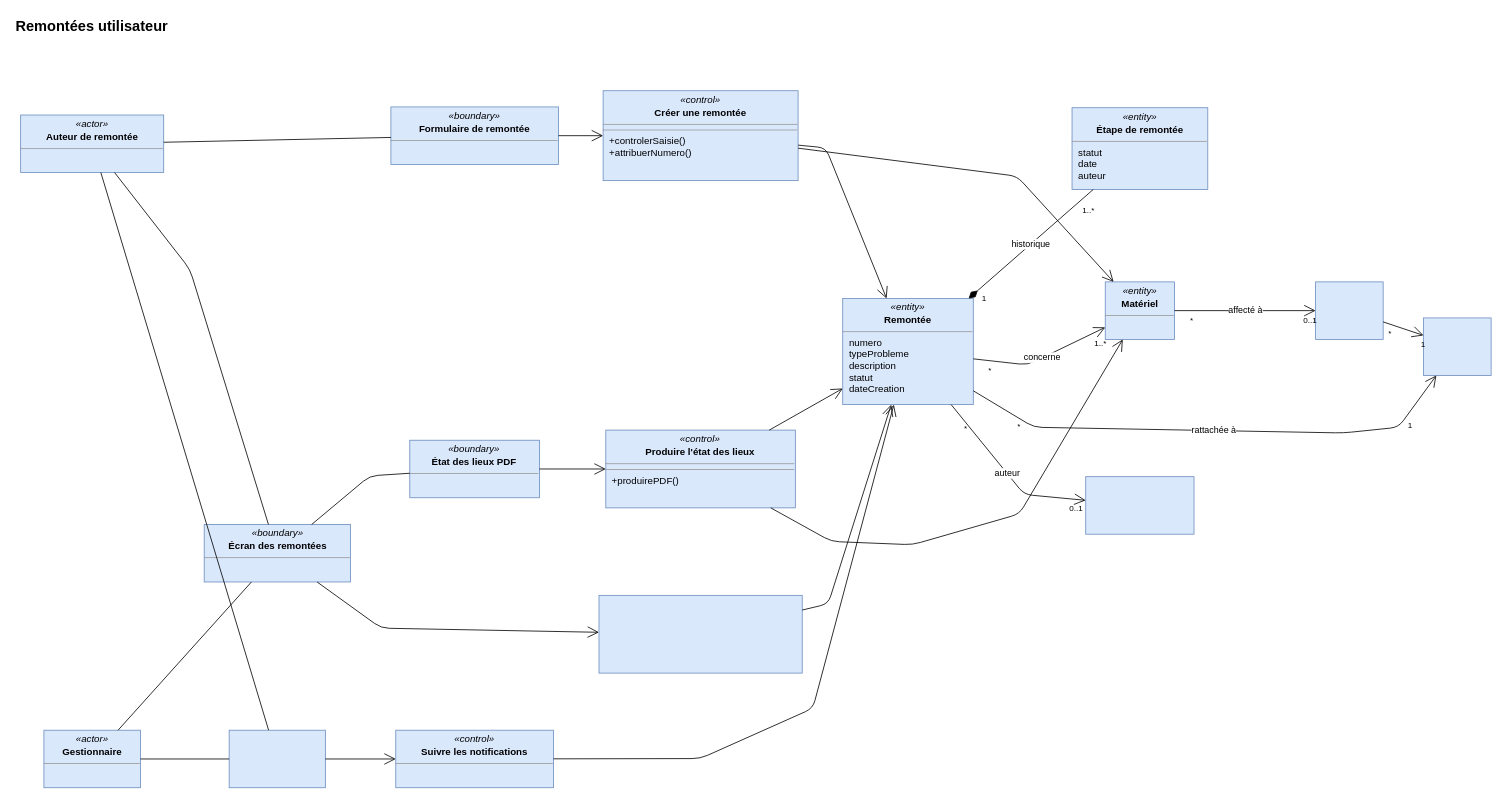
This 1505x802 diagram has some shape labels left out. Here are the shapes that lost their labels. From the top down, the centre of each, then its label:
the point at 1349,310: «entity» Salle
the point at 1457,346: «entity» École
the point at 1139,505: «entity» Compte ORION
the point at 700,634: «control» Prendre en charge et traiter +changerStatut()
the point at 276,758: «boundary» Notifications
